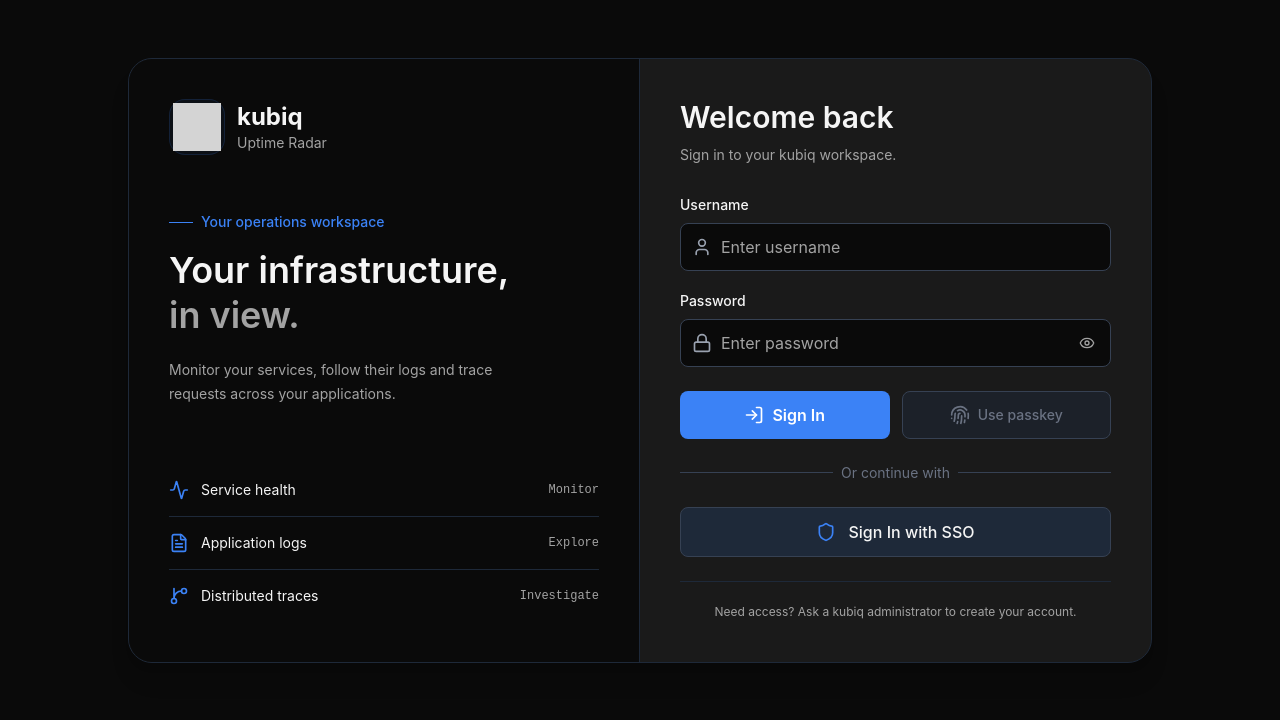
Test case: login compatibility › preserves empty and nonempty username passkey styling and availability
The image size is (1280, 720).
Expected: the button "Use passkey" is disabled, [902,390,1111,438]
Type "fixture" into the field labelled "Username" at (896,246), box [680,222,1111,270]
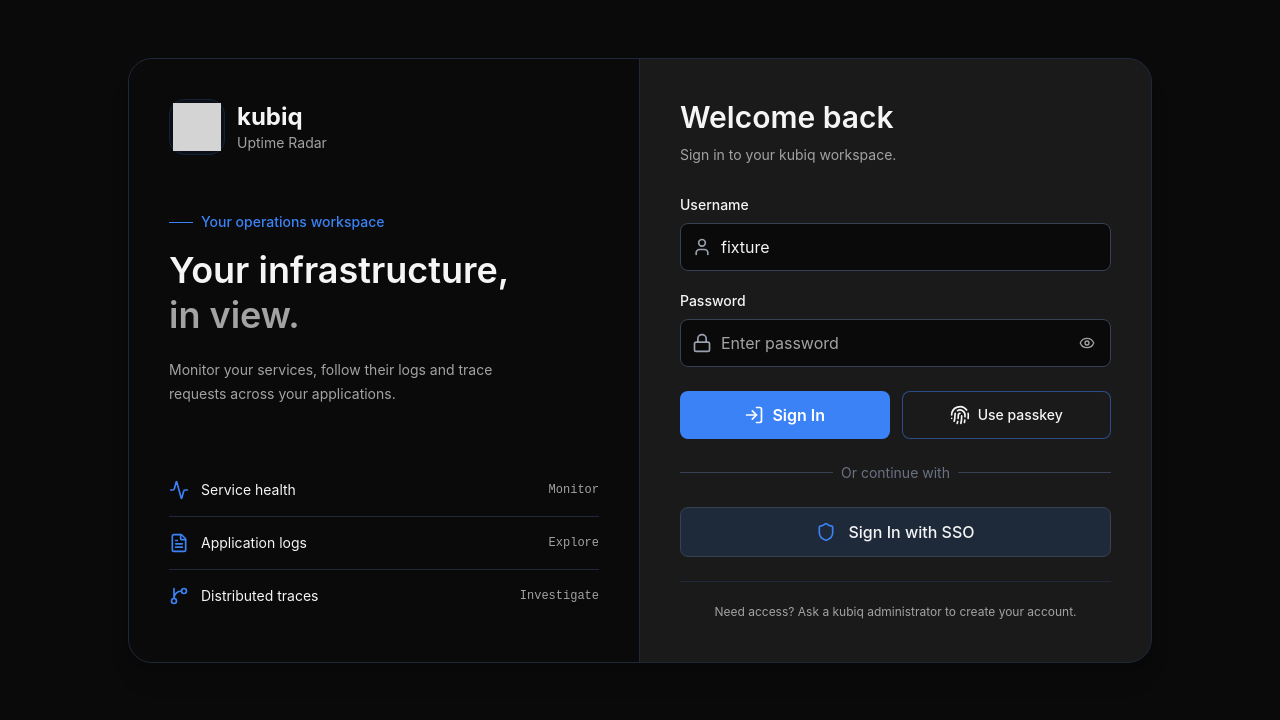
Expected: the button "Use passkey" is enabled, [902,390,1111,438]
